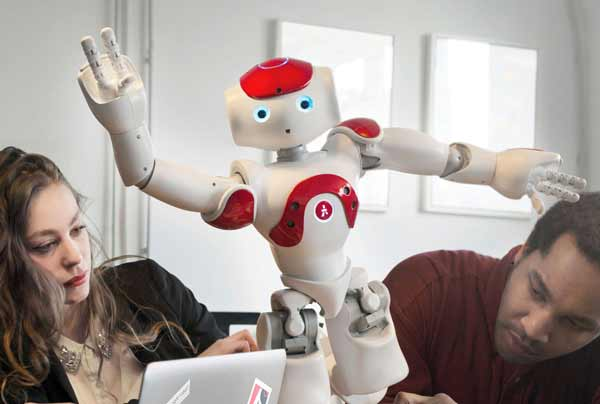nao: (69, 21, 594, 404)
